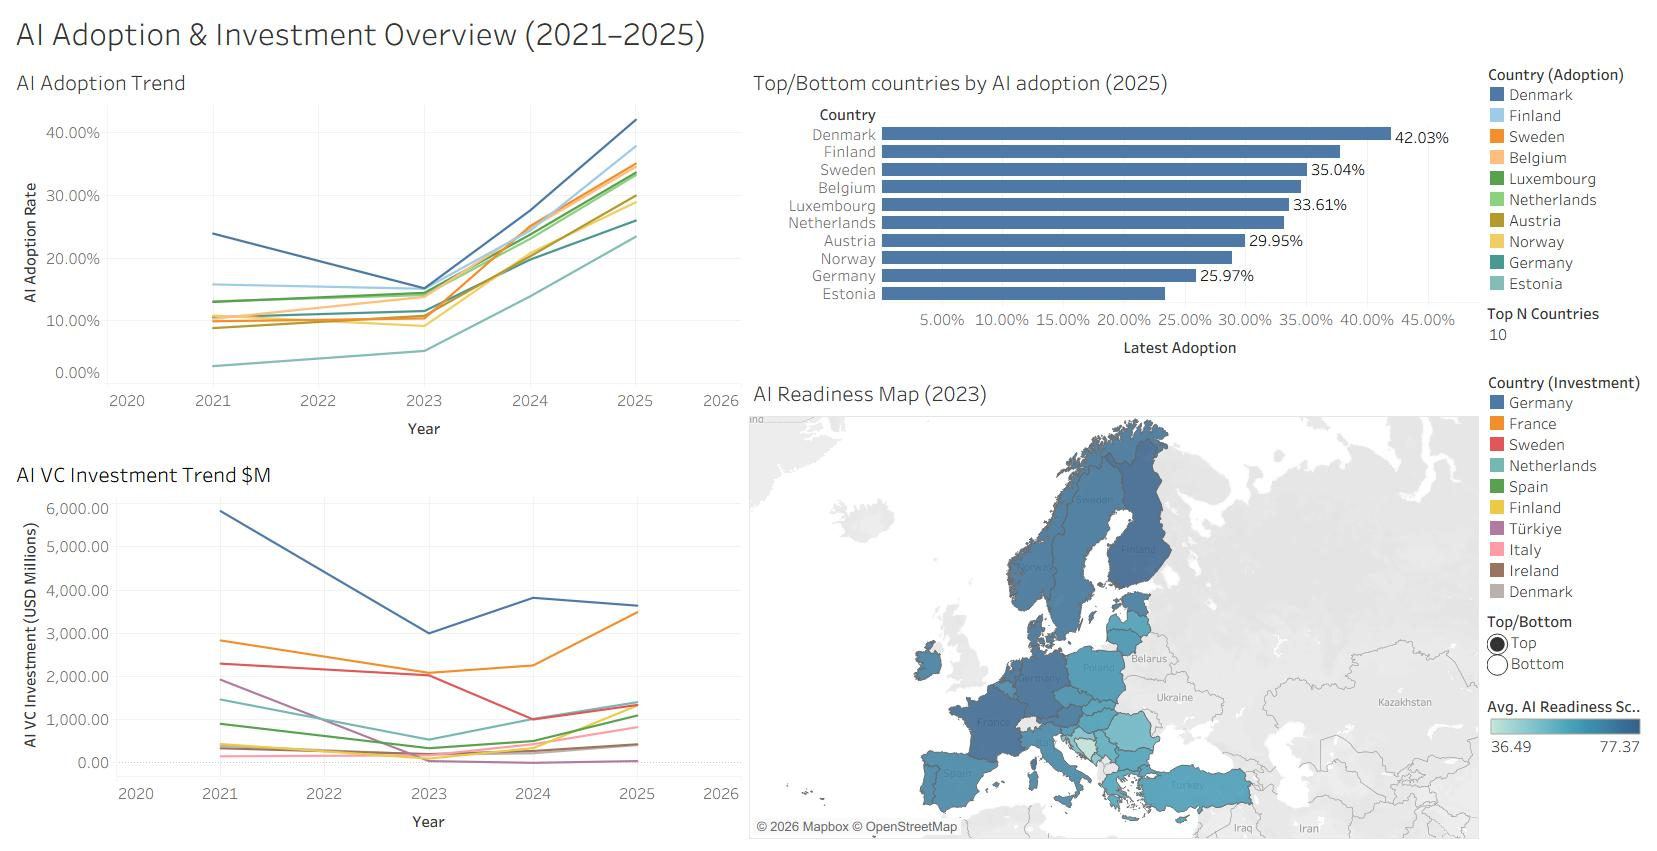

What the dashboard file says about the page in this screenshot:
{"tool":"tableau","page":{"name":"AI Adoption & Investment Overview (2021–2025)","canvas":[1000,1000],"units":"permille","ordinal":0},"visuals":[{"type":"title","box":[5,9.4,990,58.8]},{"type":"worksheet","title":"AI Adoption Trend (2021 - 2025)","mark":"Line","rows":["Calculation_1885319434250379265"],"cols":["Year"],"box":[5,68.2,443.3,461.1]},{"type":"worksheet","title":"Top/Bottom countries by AI adoption (2025)","mark":"Automatic","rows":["Country"],"cols":["Calculation_1885319434260389890"],"box":[448.3,68.2,443.5,365.4]},{"type":"legend","title":"AI Adoption Trend (2021 - 2025)","param":"[federated.0j5s8l40ccwcpl18dupxz0knavwq].[none:Country:nk]","box":[891.8,68.2,103.2,282]},{"type":"parameter","param":"[Parameters].[Parameter 1]","box":[891.8,350.2,103.2,79.9]},{"type":"legend","title":"AI VC Investment Trend","param":"[federated.0j5s8l40ccwcpl18dupxz0knavwq].[none:Country (Sheet11):nk]","box":[891.8,430.1,103.2,282]},{"type":"worksheet","title":"AI Readiness Map (2023)","mark":"Multipolygon","box":[448.3,433.5,443.5,557.1]},{"type":"worksheet","title":"AI VC Investment Trend","mark":"Line","rows":["AI_VC_Investment"],"cols":["Year (Sheet11)"],"box":[5,529.3,443.3,461.3]},{"type":"parameter","param":"[Parameters].[Rank Parameter]","box":[891.8,712.1,103.2,96.4]},{"type":"legend","title":"AI Readiness Map (2023)","param":"[federated.0j5s8l40ccwcpl18dupxz0knavwq].[avg:AI_Readiness_Score:qk]","box":[891.8,808.5,103.2,85.8]}]}

Visuals, with their boxes on the dashboard's canvas, which has no fixed pixel size, in thousandths of its width and height (x1, y1, x2, y2). These are canvas units, not pixel positions in the 1657x851 screenshot, which may show the page scaled, cropped or inside an application window:
title: x1=5, y1=9, x2=995, y2=68
"AI Adoption Trend (2021 - 2025)" worksheet (Line marks): x1=5, y1=68, x2=448, y2=529
"Top/Bottom countries by AI adoption (2025)" worksheet: x1=448, y1=68, x2=892, y2=434
"AI Adoption Trend (2021 - 2025)" legend: x1=892, y1=68, x2=995, y2=350
parameter: x1=892, y1=350, x2=995, y2=430
"AI VC Investment Trend" legend: x1=892, y1=430, x2=995, y2=712
"AI Readiness Map (2023)" worksheet (Multipolygon marks): x1=448, y1=434, x2=892, y2=991
"AI VC Investment Trend" worksheet (Line marks): x1=5, y1=529, x2=448, y2=991
parameter: x1=892, y1=712, x2=995, y2=808
"AI Readiness Map (2023)" legend: x1=892, y1=808, x2=995, y2=894
